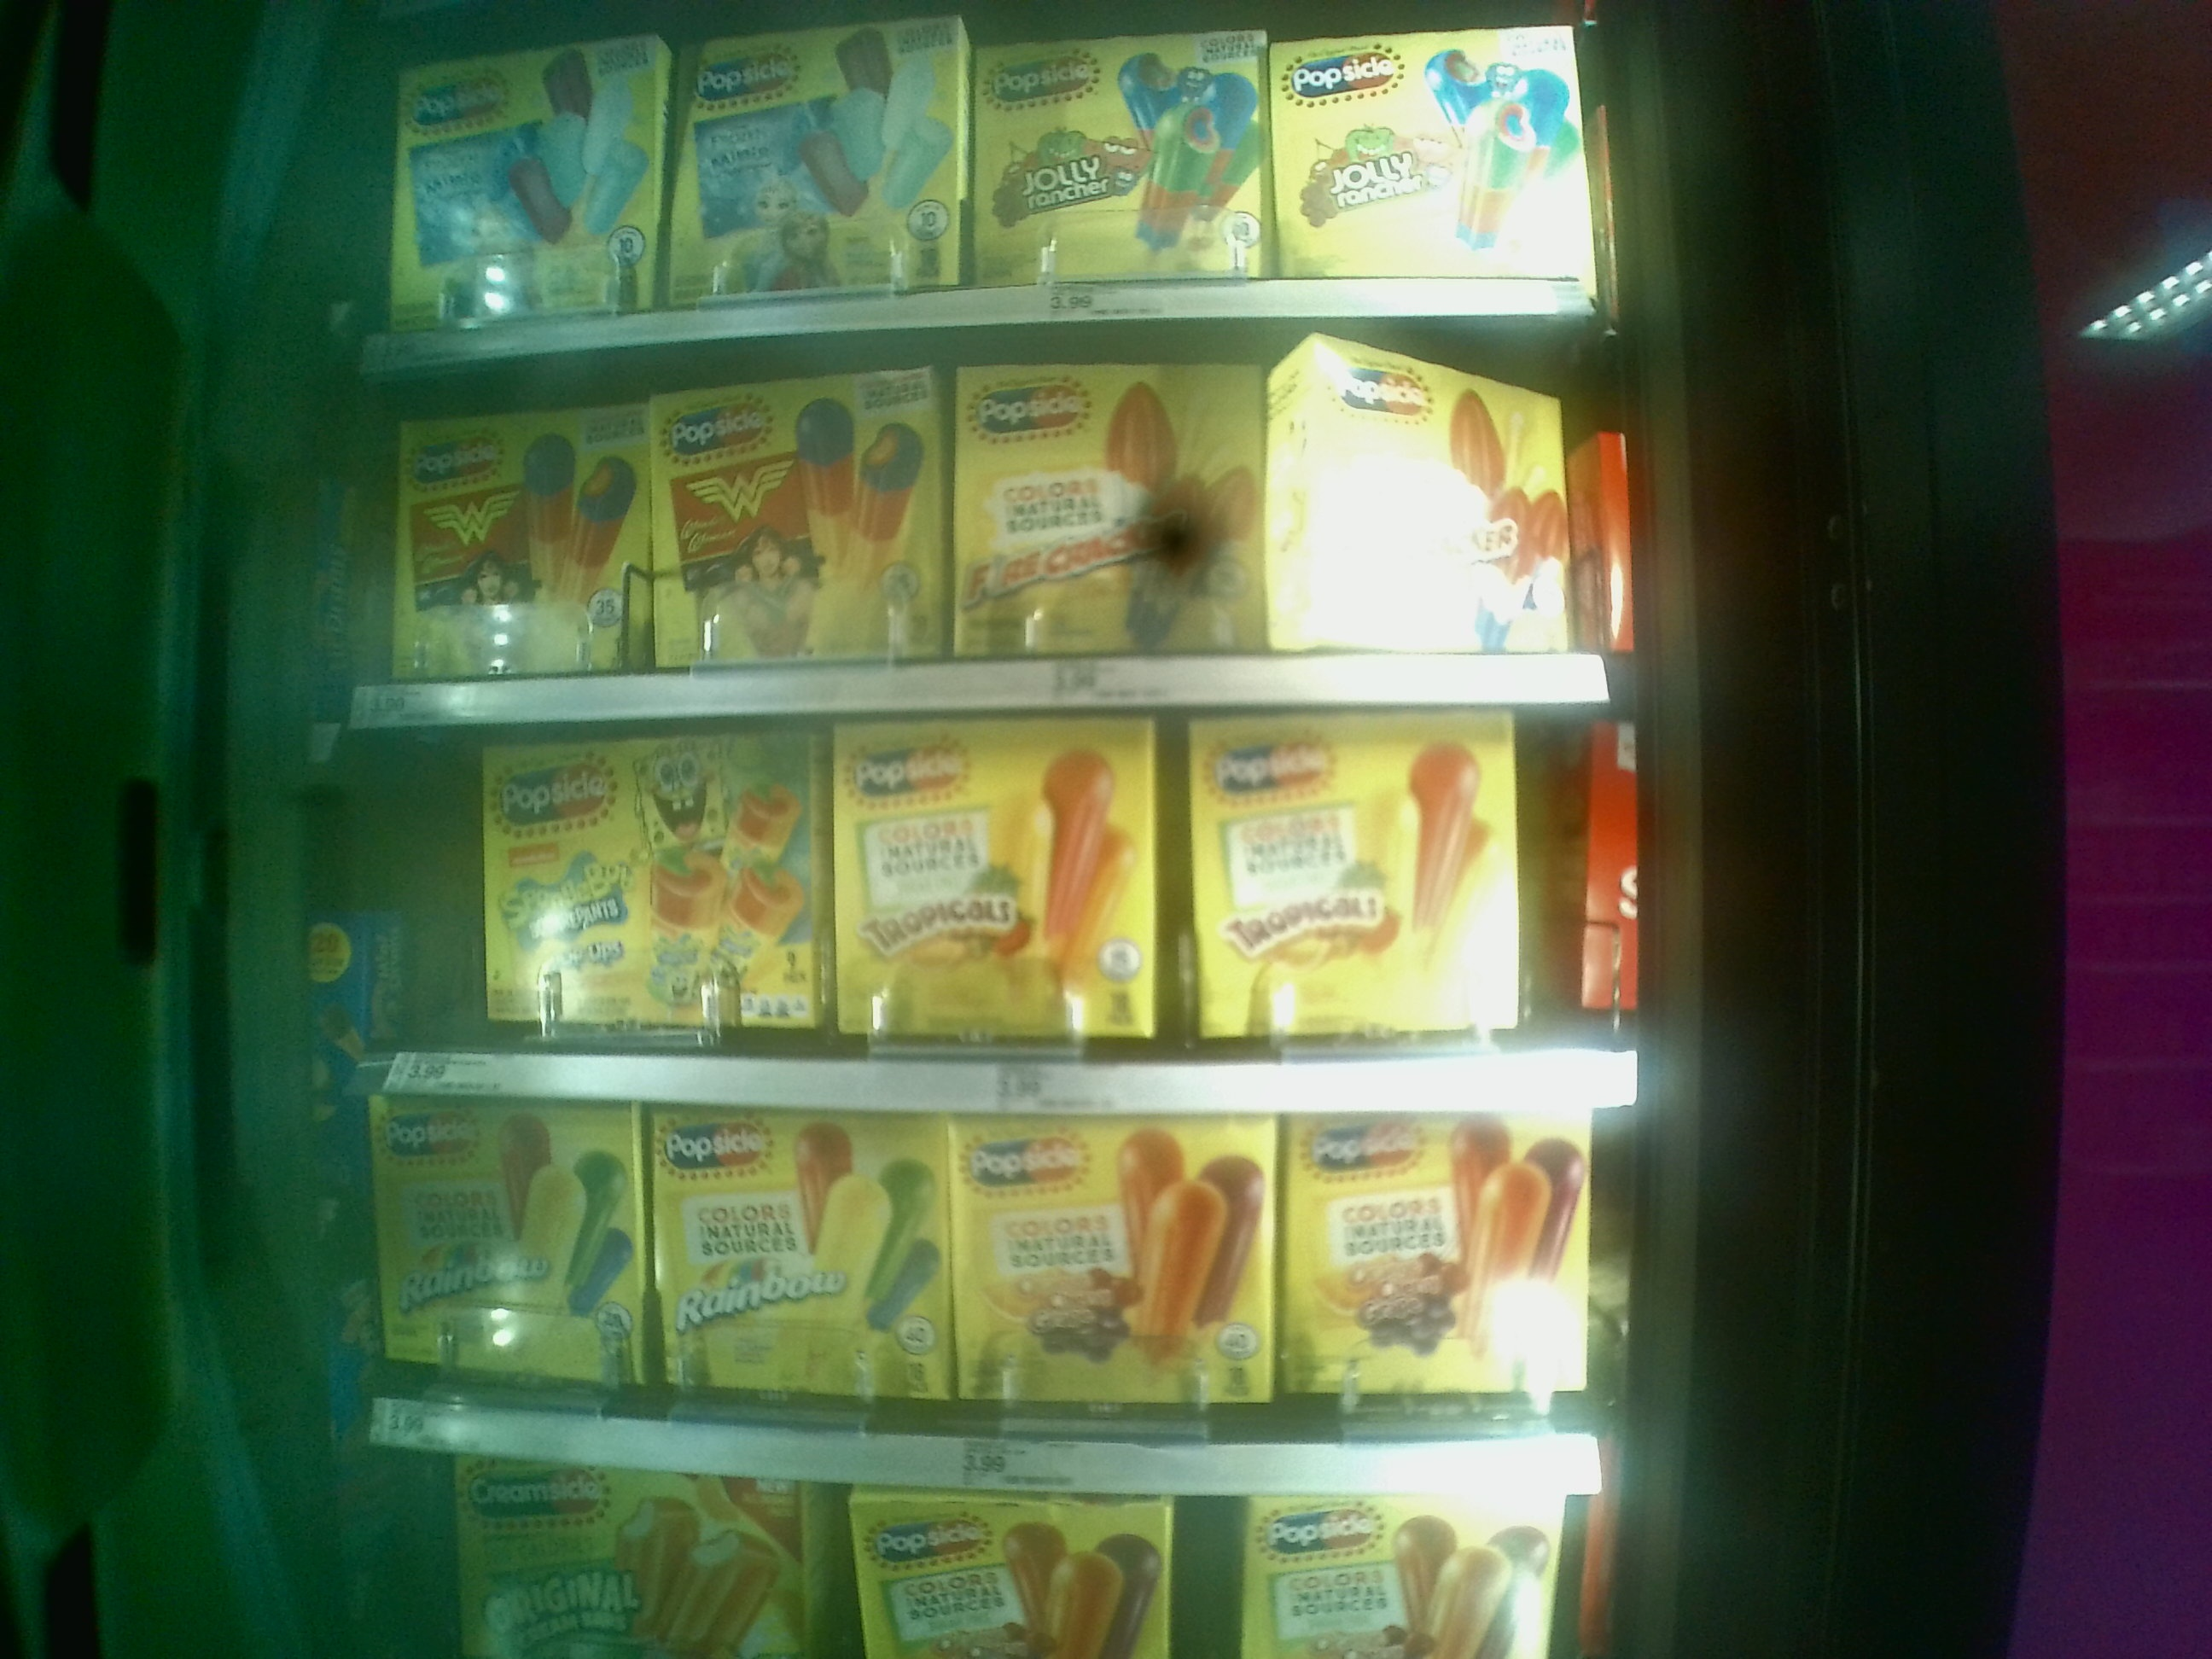frozen-food-shelf: (357, 1101, 1608, 1502), (350, 350, 1627, 721), (347, 741, 1630, 1105)
